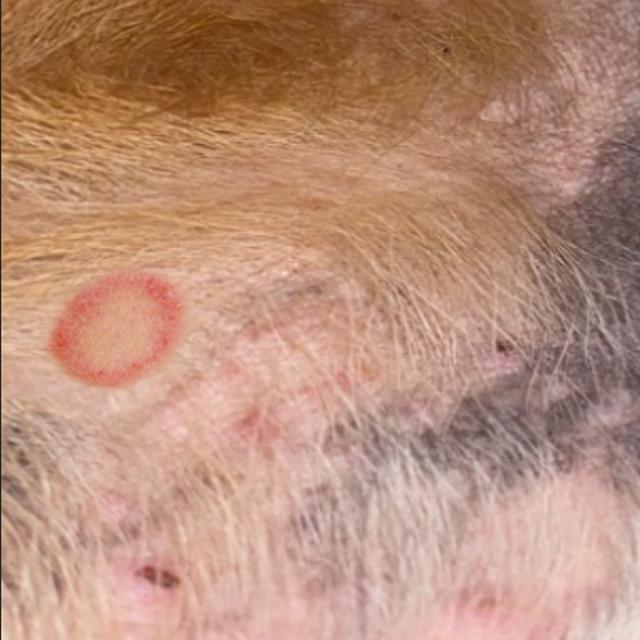ringworm: (17, 236, 225, 413)
